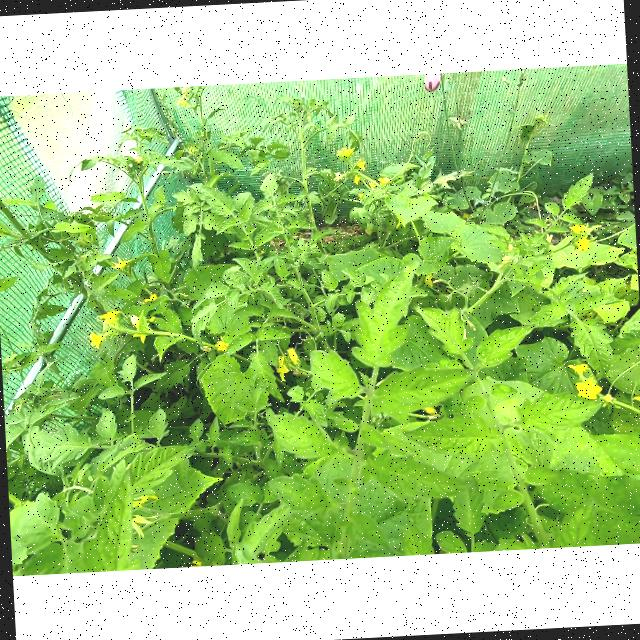Flowers: (570, 360, 606, 402), (274, 348, 302, 379), (128, 312, 152, 343), (568, 224, 592, 254), (86, 331, 105, 349), (337, 146, 354, 162), (110, 257, 130, 270), (102, 310, 120, 324), (214, 335, 228, 353), (354, 160, 368, 171), (352, 175, 362, 187), (146, 294, 156, 304), (377, 177, 389, 184), (368, 181, 376, 187), (358, 194, 365, 198)
